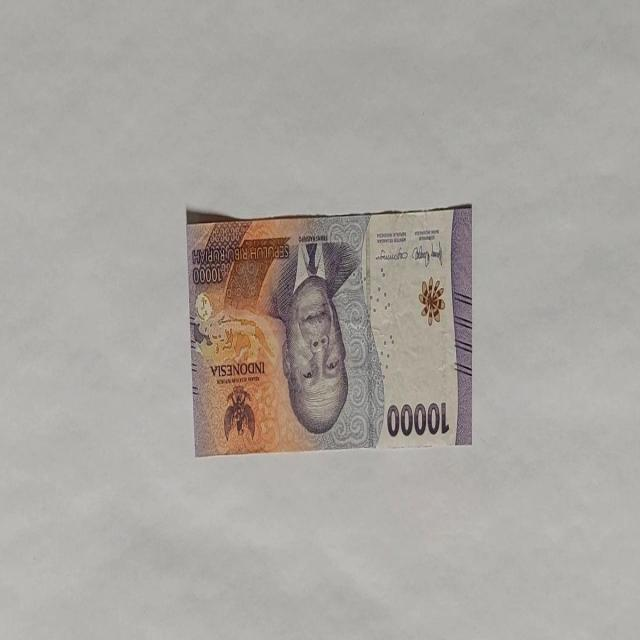Kertas: (186, 203, 472, 457)
